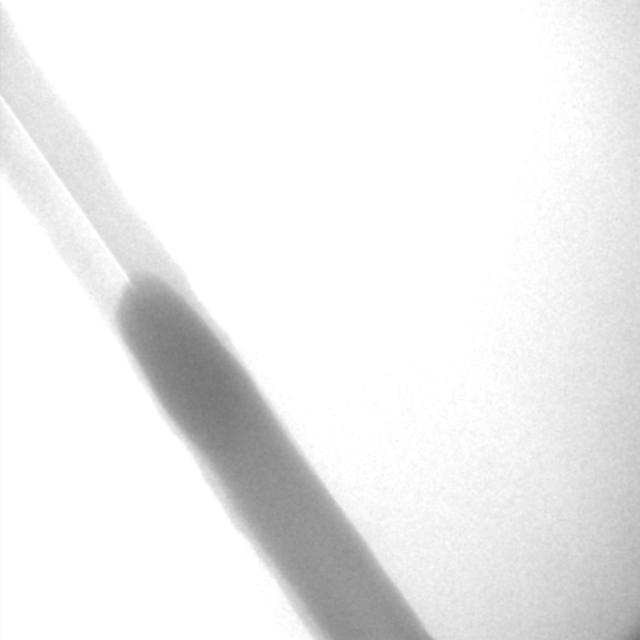broken arc: (1, 98, 131, 284)
